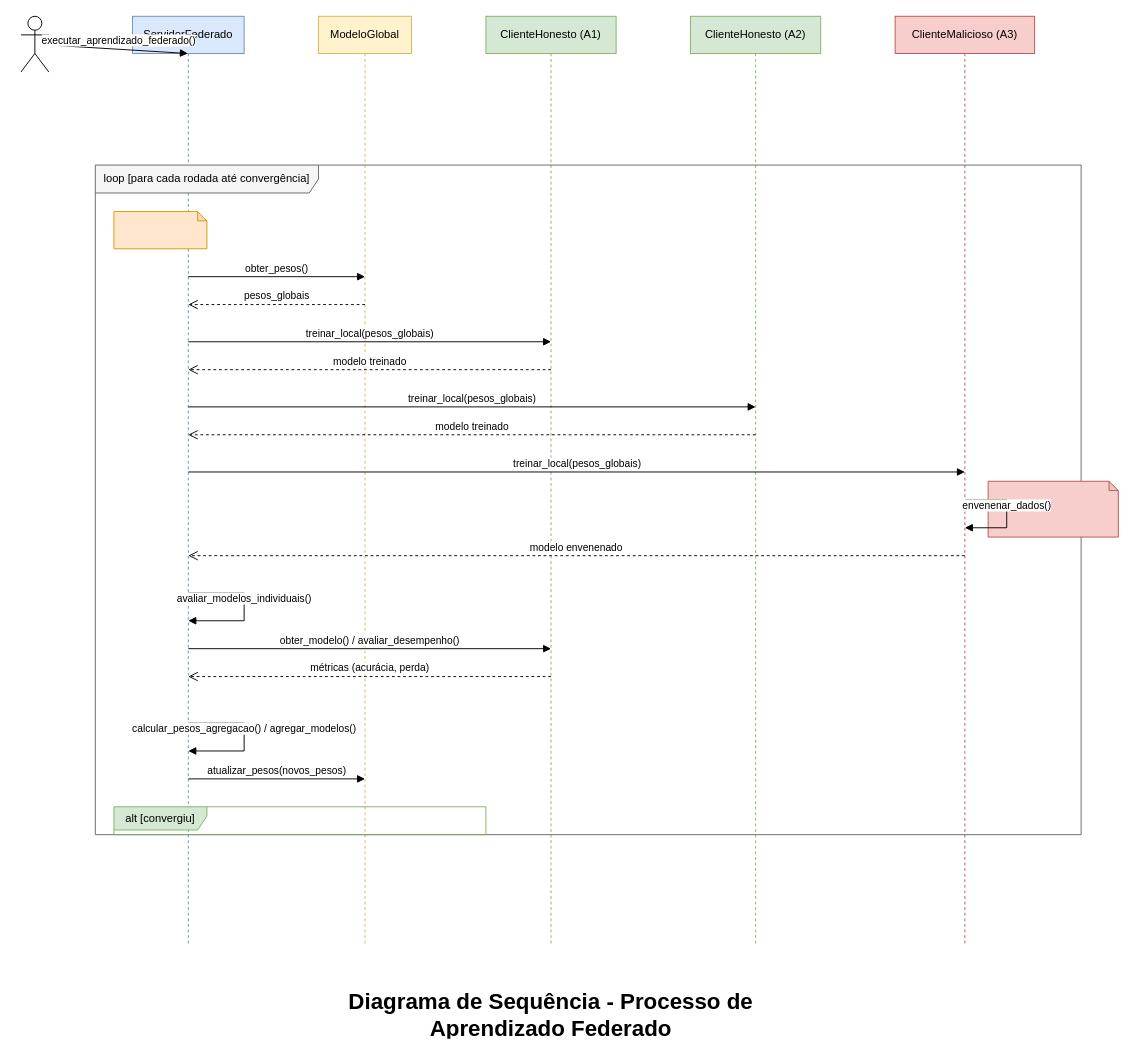
This 1135x1056 diagram has some shape labels left out. The shapes that lost their labels are listed below. From the top down, each one's centre as x and y in pixels, then its label:
At (x=34, y=43): "Usuario".
At (x=160, y=230): "RODADA N".
At (x=1052, y=508): "🔴 ATAQUE ATIVADO Envenenamento de dados".
